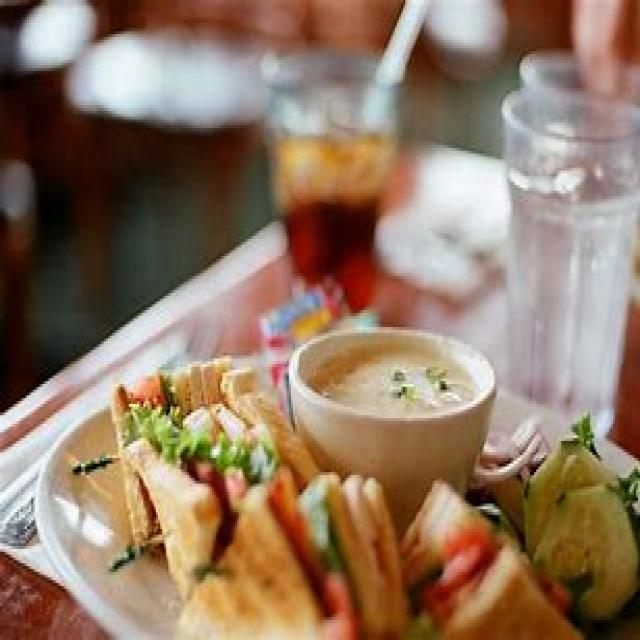Sandwich: (89, 353, 555, 637)
